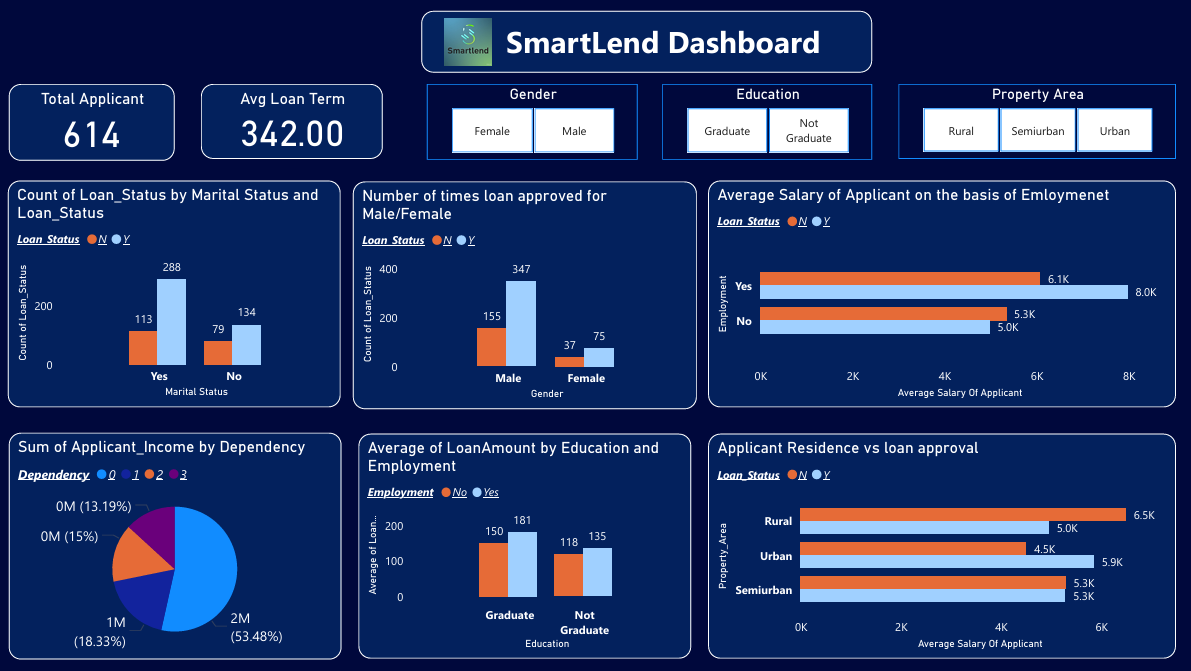

The page's visual inventory and layout, read from the dashboard file:
{"tool":"powerbi","page":{"name":"Page 1","canvas":[1280,720],"ordinal":0},"visuals":[{"type":"card","title":"Total Applicant","fields":{"Values":["loan_data_cleaned.Total Loan Applications"]},"box":[12.1,89.3,177.3,82],"z":0},{"type":"card","title":"Avg Loan Term","fields":{"Values":["Avg(loan_data_cleaned.Loan_Amount_Term)"]},"box":[217.2,89.3,194.2,79.6],"z":1000},{"type":"slicer","title":"Gender","fields":{"Values":["loan_data_cleaned.Gender"]},"box":[458.3,88.7,224.8,81.7],"z":2000},{"type":"slicer","title":"Education","fields":{"Values":["loan_data_cleaned.Education"]},"box":[708.6,88.7,224.8,81.7],"z":3000},{"type":"slicer","title":"Property Area","fields":{"Values":["loan_data_cleaned.Property_Area"]},"box":[960.6,88.7,296.8,79.9],"z":4000},{"type":"clusteredColumnChart","fields":{"Category":["loan_data_cleaned.Marital Status"],"Y":["CountNonNull(loan_data_cleaned.Loan_Status)"],"Series":["loan_data_cleaned.Loan_Status"]},"box":[10.9,191.8,354.7,242.5],"z":5000},{"type":"textbox","box":[452.4,10.9,480.2,66.4],"z":6000},{"type":"image","box":[471.7,10.9,61.5,66.4],"z":7000},{"type":"clusteredColumnChart","title":"Number of times loan approved for Male/Female","fields":{"Category":["loan_data_cleaned.Gender"],"Y":["CountNonNull(loan_data_cleaned.Loan_Status)"],"Series":["loan_data_cleaned.Loan_Status"]},"box":[378.8,193,366.8,242.5],"z":8000},{"type":"clusteredBarChart","title":"Average Salary of Applicant on the basis of Emloymenet","fields":{"Category":["loan_data_cleaned.Employment"],"Y":["Avg(loan_data_cleaned.Applicant_Income)"],"Series":["loan_data_cleaned.Loan_Status"]},"box":[757.6,191.8,499.5,242.5],"z":9000},{"type":"clusteredBarChart","title":"Applicant Residence vs loan approval","fields":{"Category":["loan_data_cleaned.Property_Area"],"Y":["Avg(loan_data_cleaned.Applicant_Income)"],"Series":["loan_data_cleaned.Loan_Status"]},"box":[757.6,462.1,499.5,240.1],"z":10000},{"type":"clusteredColumnChart","fields":{"Category":["loan_data_cleaned.Education"],"Y":["Avg(loan_data_cleaned.LoanAmount)"],"Series":["loan_data_cleaned.Employment"]},"box":[384.9,462.1,354.7,240.1],"z":11000},{"type":"pieChart","fields":{"Category":["loan_data_cleaned.Dependency"],"Y":["Sum(loan_data_cleaned.Applicant_Income)"]},"box":[12.1,460.9,354.7,242.5],"z":12000}]}

Visuals, with their boxes in screenshot pixels (x1, y1, x2, y2), scaled from the page's 1280x720 canvas onto the 1191x671 screenshot:
"Total Applicant" card: bbox(11, 83, 176, 160)
"Avg Loan Term" card: bbox(202, 83, 383, 157)
"Gender" slicer: bbox(426, 83, 636, 159)
"Education" slicer: bbox(659, 83, 868, 159)
"Property Area" slicer: bbox(894, 83, 1170, 157)
clusteredColumnChart - loan_data_cleaned.Marital Status x CountNonNull(loan_data_cleaned.Loan_Status): bbox(10, 179, 340, 405)
textbox: bbox(421, 10, 868, 72)
image: bbox(439, 10, 496, 72)
"Number of times loan approved for Male/Female" clusteredColumnChart: bbox(352, 180, 694, 406)
"Average Salary of Applicant on the basis of Emloymenet" clusteredBarChart: bbox(705, 179, 1170, 405)
"Applicant Residence vs loan approval" clusteredBarChart: bbox(705, 431, 1170, 654)
clusteredColumnChart - loan_data_cleaned.Education x Avg(loan_data_cleaned.LoanAmount): bbox(358, 431, 688, 654)
pieChart - loan_data_cleaned.Dependency x Sum(loan_data_cleaned.Applicant_Income): bbox(11, 430, 341, 656)
